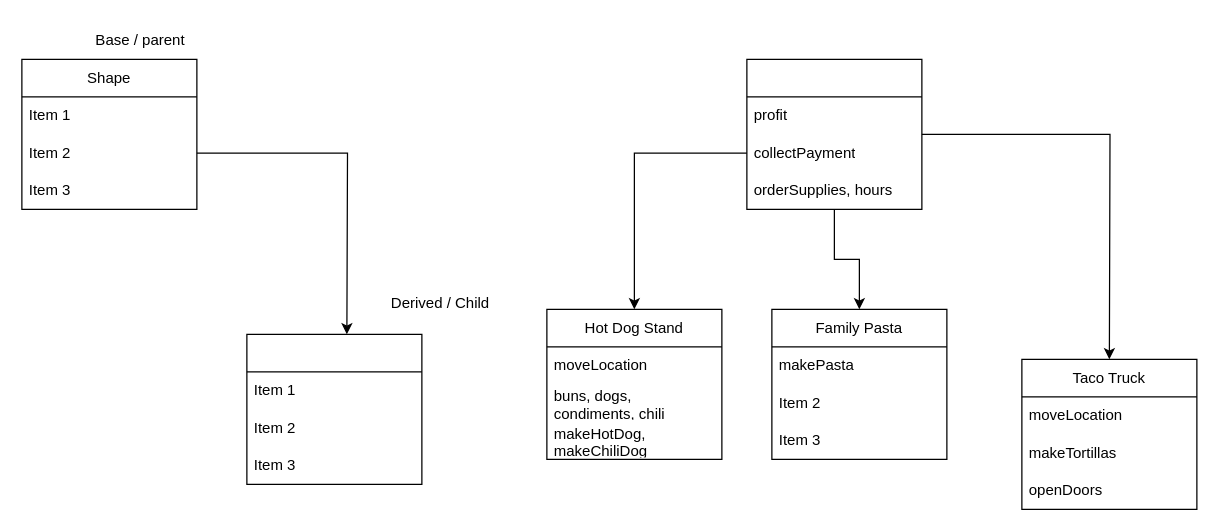
Image size: 1219x531. Some labels were removed from this diagram. The shapes that lost their labels are listed below. From the top down, each one's box as (x1, y1, x2, y2) in pixels, then its label:
(746, 58, 922, 209): FoodVendor
(246, 333, 422, 484): Square
